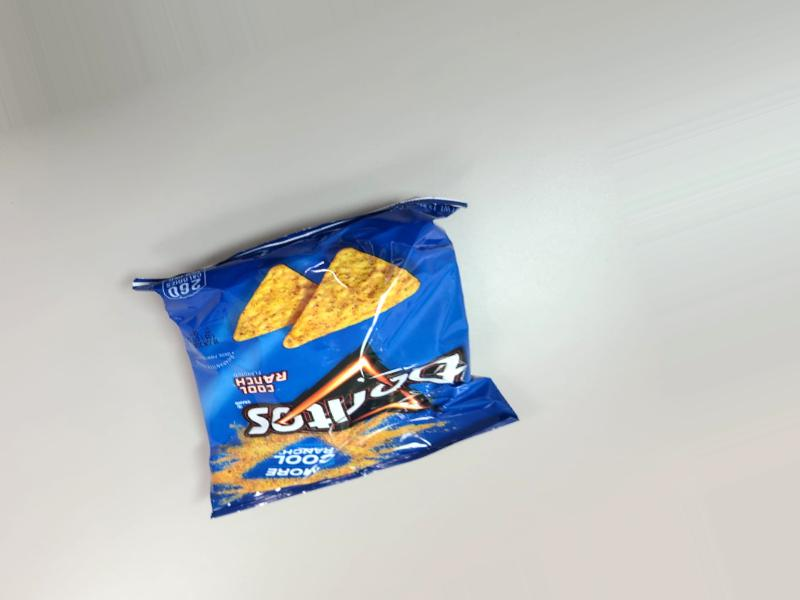doritos: (128, 212, 486, 520)
